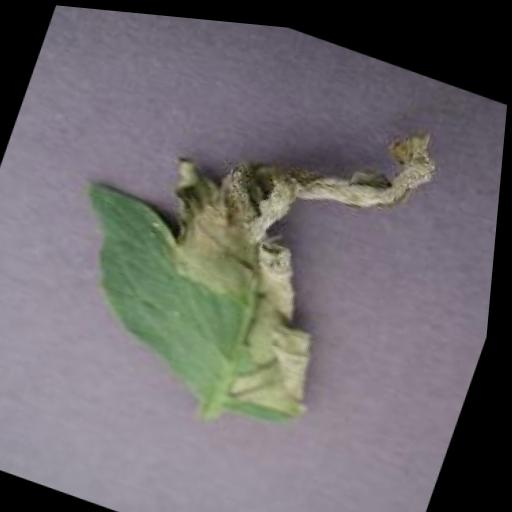Late Blight: (38, 26, 455, 450)
